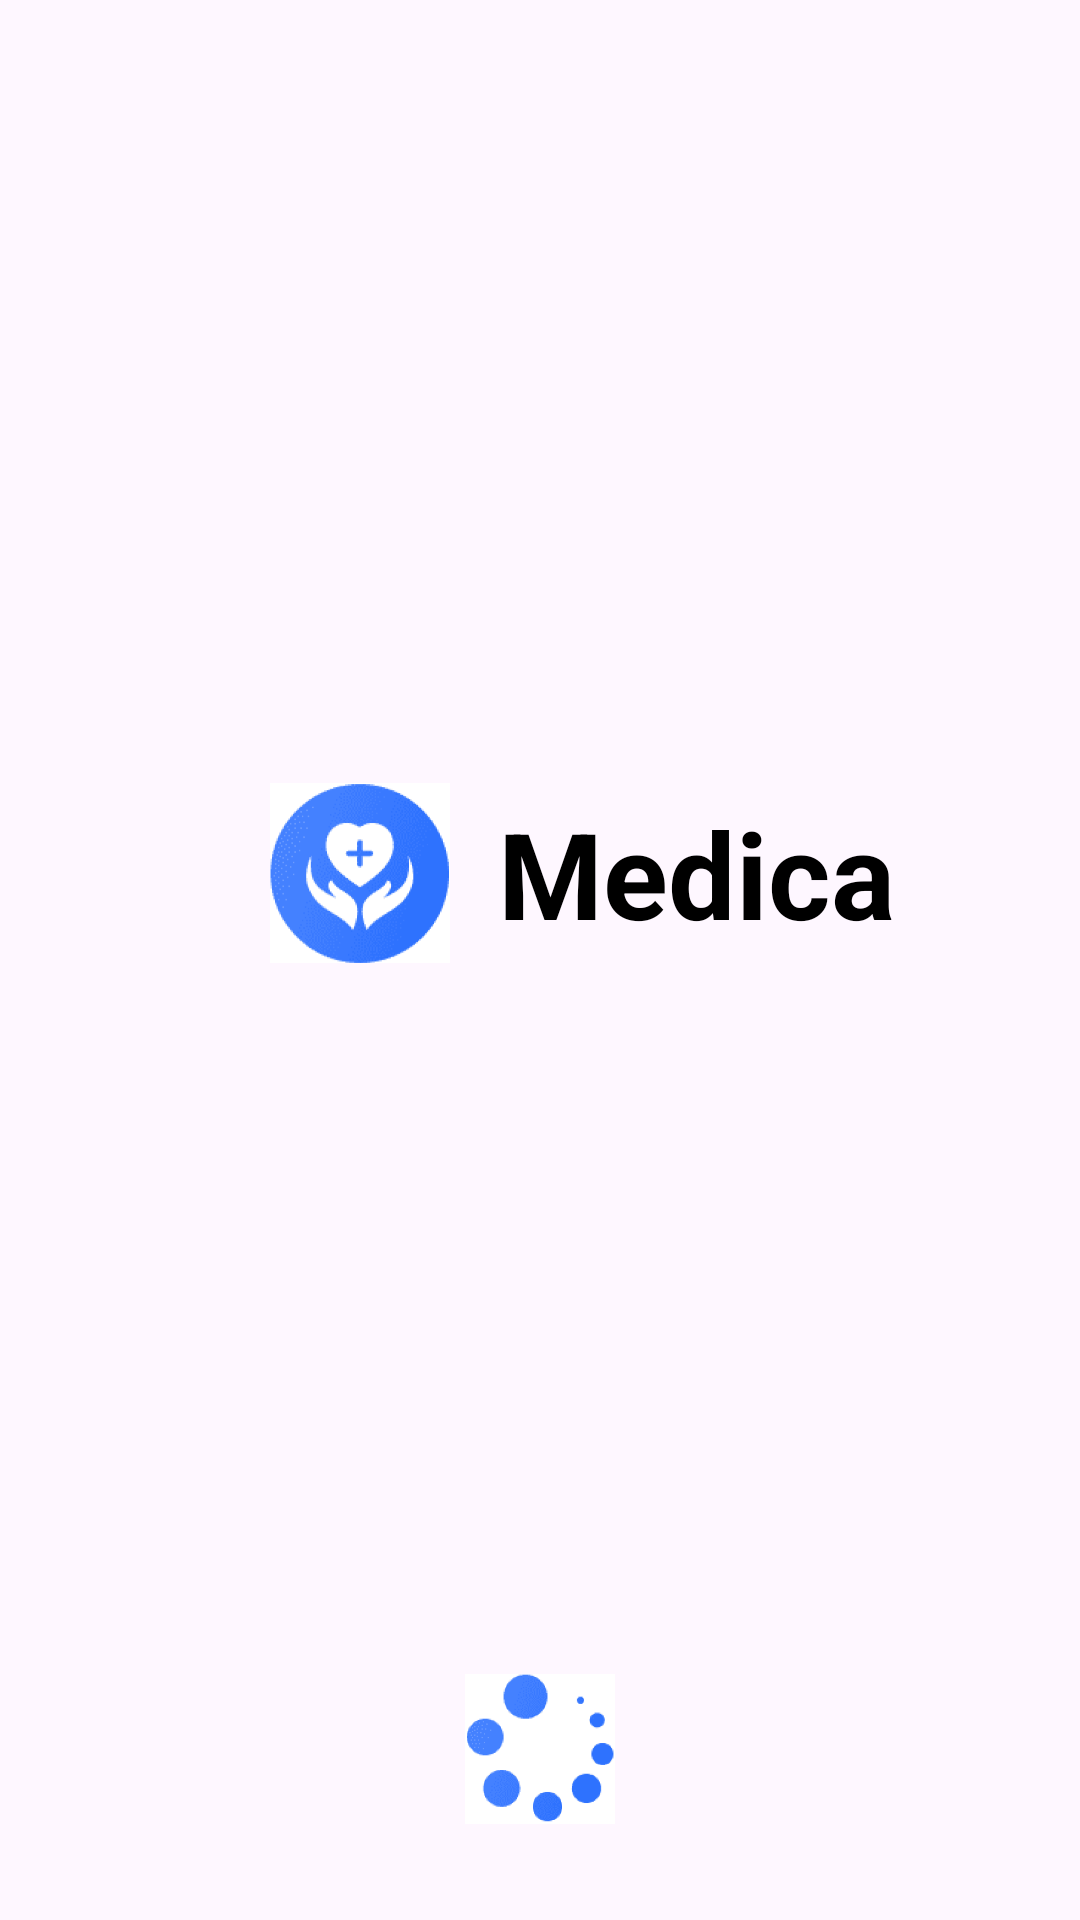

Icon bounding boxes for this 1080×1920 phone screenshot, format [x1,y1,x2,y2]:
loading: [467,1674,614,1822]
